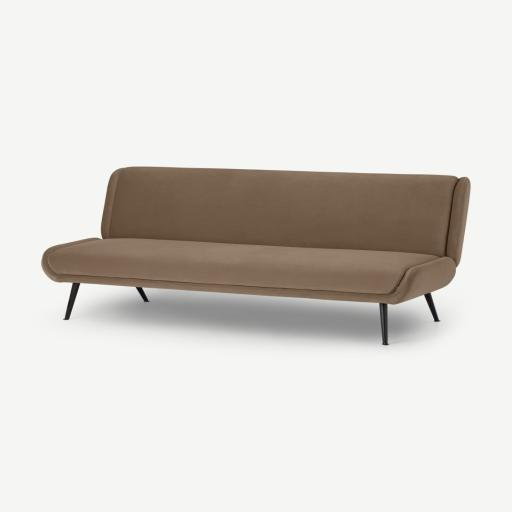back_cushion: (102, 167, 462, 261)
legs: (64, 283, 80, 320), (424, 294, 439, 321), (380, 303, 388, 345), (137, 287, 148, 301)
seat_cushion: (49, 239, 440, 295)
two-seater: (0, 0, 511, 512)
